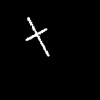single_crochet: (26, 17, 48, 55)
